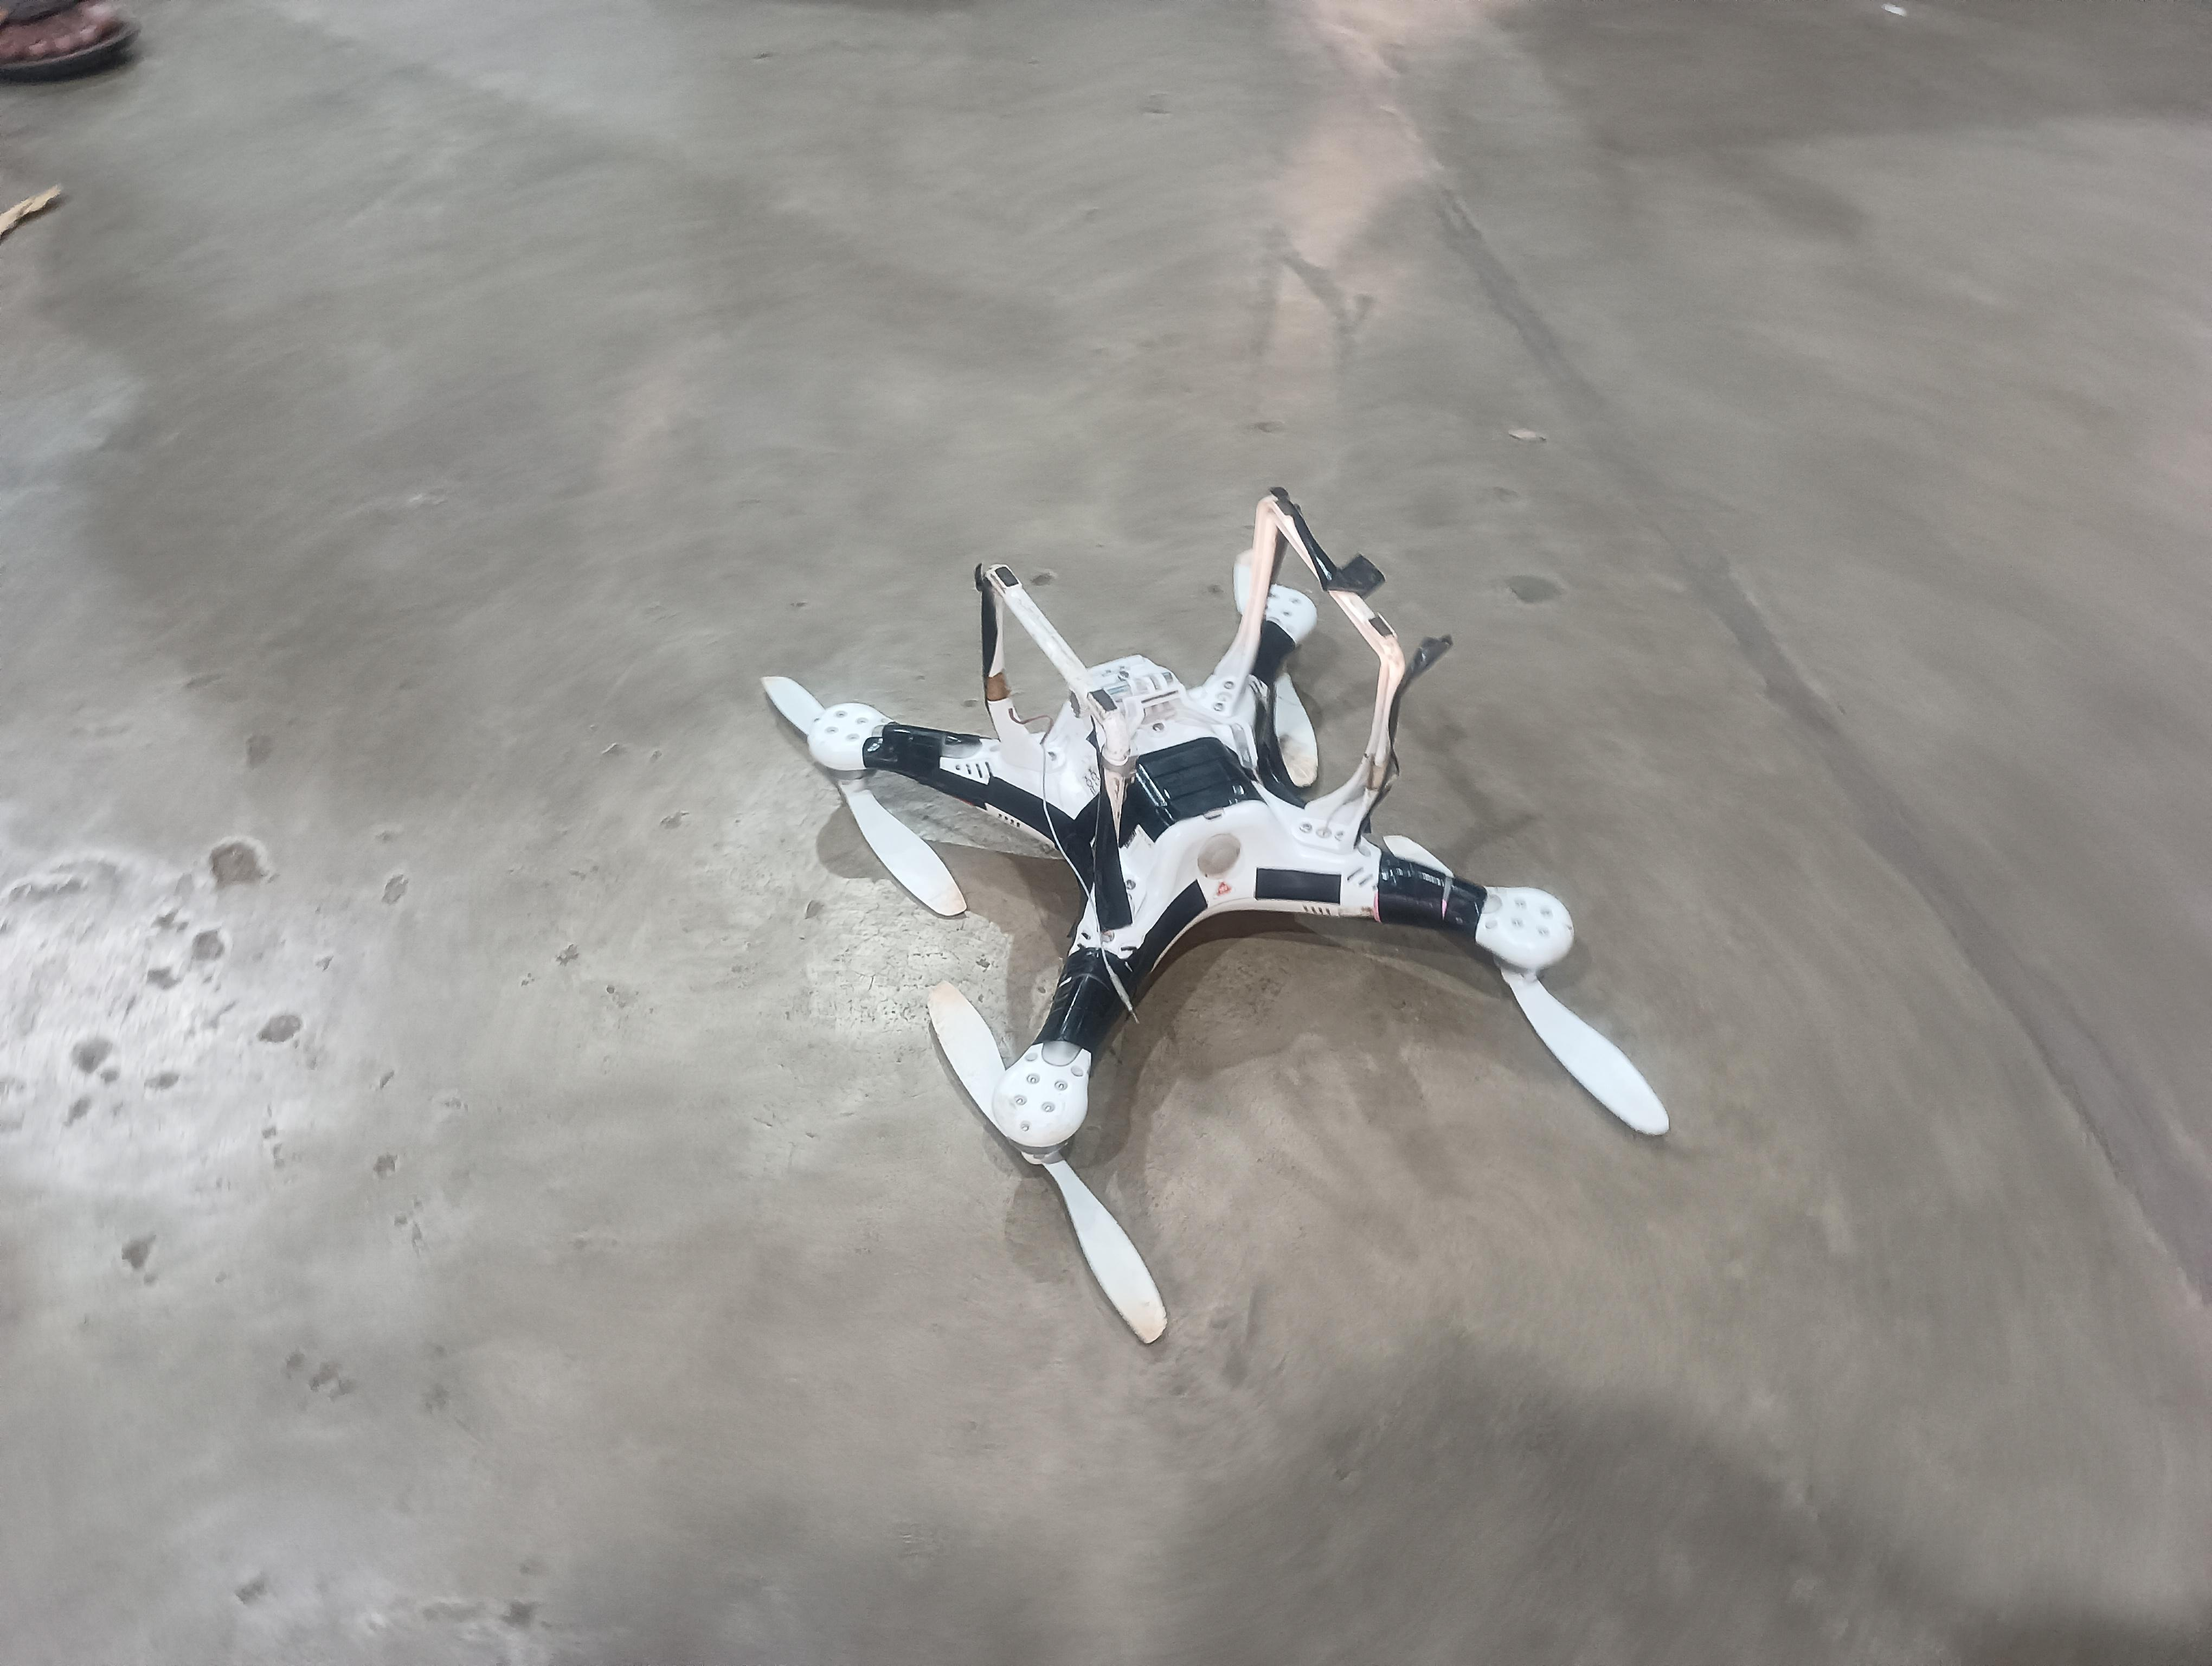drone: (801, 462, 1586, 1116)
